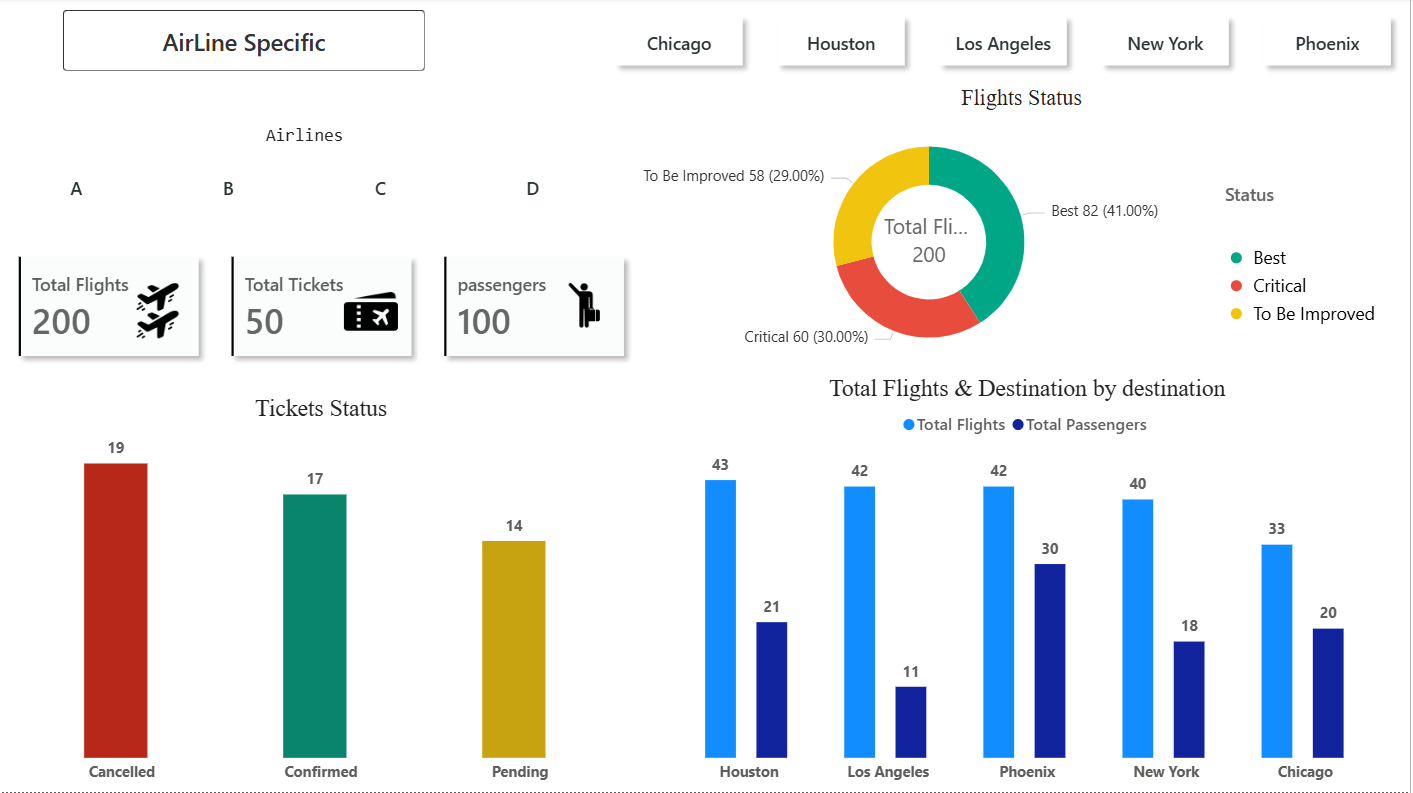

Layout of this report page (visuals, bound fields, positions):
{"tool":"powerbi","page":{"name":"Airline Specific info","canvas":[1280,720],"ordinal":4},"visuals":[{"type":"DonutChartGMO1461469098694","title":"Passengers by Airline.","fields":{"Category":["Flight_Information.Airline Type"],"Y":["CountNonNull(Passenger_Information.PassengerID)"]},"box":[681.3,78.9,598.7,263.1],"z":0},{"type":"columnChart","title":"Flights by Airline and Destination","fields":{"Category":["Flight_Information.Destination"],"Series":["Flight_Information.Airline Type"],"Y":["CountNonNull(Flight_Information.FlightID)"]},"box":[584.8,342.1,695.2,377.9],"z":1000},{"type":"shape","box":[49.9,10.9,328.4,55.3],"z":2000},{"type":"clusteredColumnChart","title":"Ticket Booking Statuses","fields":{"Category":["Ticket_Information.BookingStatus"],"Y":["CountNonNull(Ticket_Information.FlightID)"]},"box":[0,416,584.6,304.2],"z":3000},{"type":"advancedSlicerVisual","title":"Airlines","fields":{"Values":["Flight_Information.Airline Type"]},"box":[14.5,78.9,554.3,69.9],"z":5000},{"type":"advancedSlicerVisual","title":"Destination","fields":{"Values":["Flight_Information.Destination"]},"box":[542.5,0,737.5,78.9],"z":6000},{"type":"cardVisual","fields":{"Data":["measures (2).Total Flights","measures (2).Best Flights","measures (2).To Be Improved Flights","measures (2).critical Flights","measures (2).Total Tickets"]},"box":[0,160.3,584.6,232.7],"z":6001}]}

Visuals, with their boxes in screenshot pixels (x1, y1, x2, y2), scaled from the page's 1280x720 canvas onto the 1413x793 screenshot:
"Passengers by Airline." DonutChartGMO1461469098694: l=752, t=87, r=1412, b=377
"Flights by Airline and Destination" columnChart: l=646, t=377, r=1412, b=792
shape: l=55, t=12, r=418, b=73
"Ticket Booking Statuses" clusteredColumnChart: l=0, t=458, r=645, b=792
"Airlines" advancedSlicerVisual: l=16, t=87, r=628, b=164
"Destination" advancedSlicerVisual: l=599, t=0, r=1412, b=87
cardVisual - measures (2).Total Flights x measures (2).Best Flights: l=0, t=177, r=645, b=433
